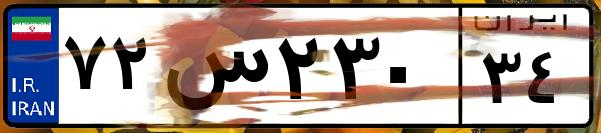0: (385, 28, 445, 110)
2: (270, 28, 330, 110), (110, 28, 158, 98)
3: (330, 28, 385, 110), (475, 38, 525, 113)
4: (525, 38, 570, 115)
7: (57, 26, 110, 100)
س: (158, 20, 270, 120)
